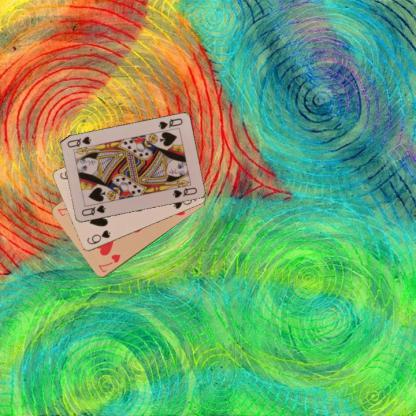6s: (84, 228, 112, 246)
7h: (95, 252, 122, 274)
Qs: (78, 203, 107, 217), (155, 116, 184, 130)
